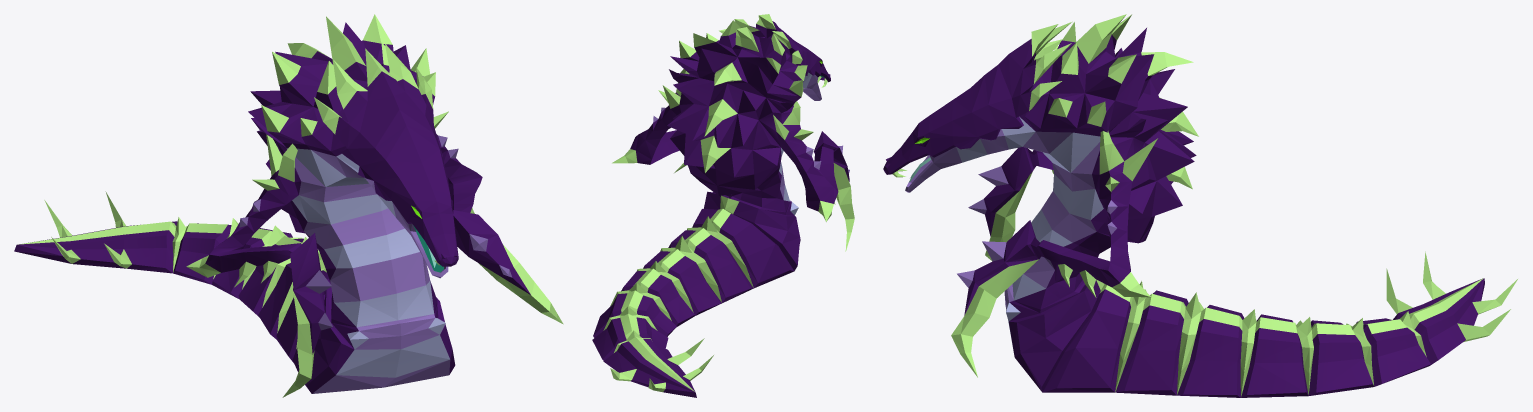
3 views of the same model, side by side, from view 1: azimuth 30°, elevation 25°; view 2: azimuth 150°, elevation 25°; view 3: azimuth 270°, elevation 25° (orthographic). The views are drawn at different scales.
Visible parts, largest first — view 1: Alien_Serpent; view 2: Alien_Serpent; view 3: Alien_Serpent.
Boxes of the visible parts, <box> form: Alien_Serpent: <box>14,14,563,397</box>; Alien_Serpent: <box>592,14,854,397</box>; Alien_Serpent: <box>883,14,1517,397</box>.
Size of the model in its own units: 189 by 216 by 362.
1 material, 1 textured.
